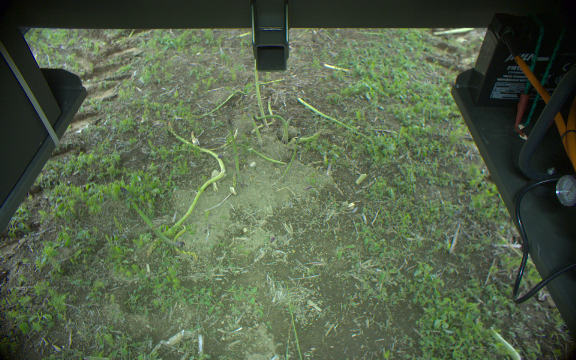aspa: (115, 185, 183, 252), (225, 116, 245, 178), (249, 62, 270, 118), (255, 111, 290, 142), (248, 110, 263, 146)
